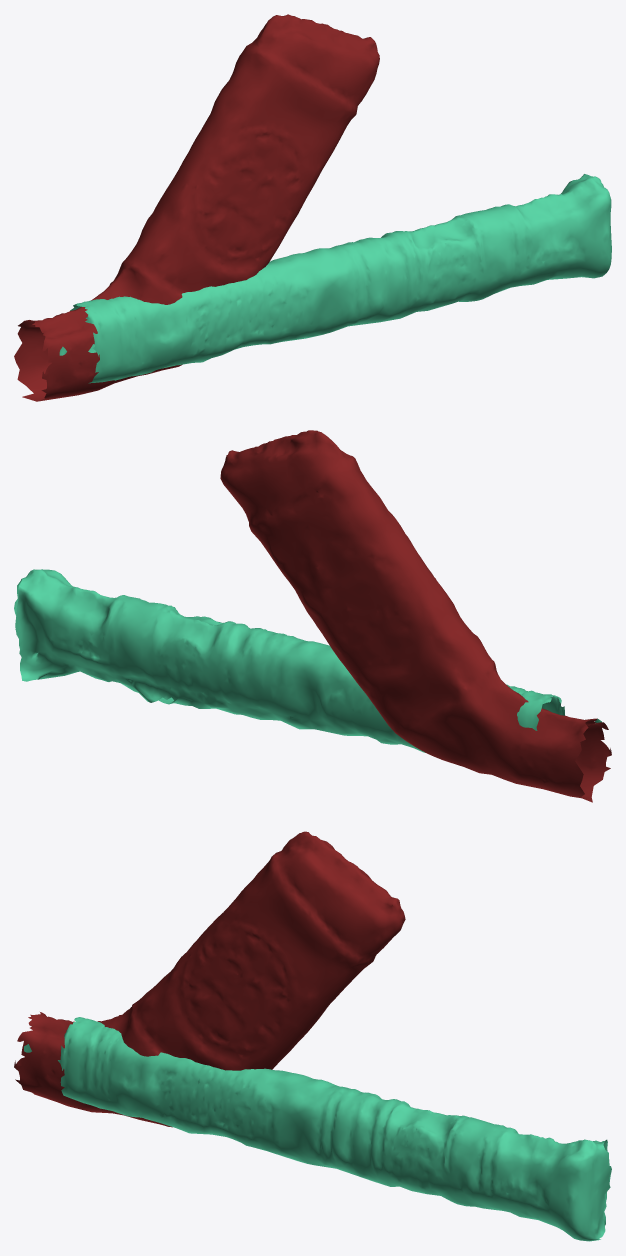
The model's file is object_deformed_0.obj.
3 renders of one model, top to bottom at view 1: azimuth 30°, elevation 25°; view 2: azimuth 150°, elevation 25°; view 3: azimuth 330°, elevation 25°, orthographic.
Size of the model in its own units: 0.316 by 0.1686 by 0.0457.
